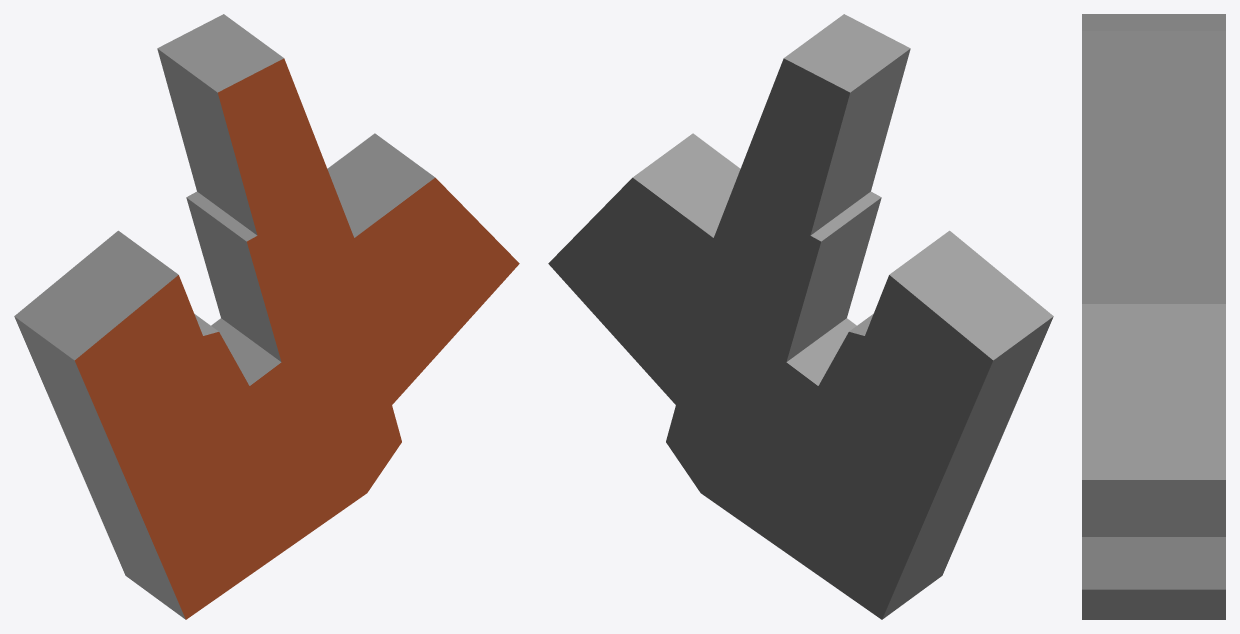
File: construction_1663_assumed_A_Casa_h6m.obj
The picture shows the model from 3 angles, left to right: view 1: azimuth 30°, elevation 25°; view 2: azimuth 150°, elevation 25°; view 3: azimuth 270°, elevation 25°; orthographic projection. The views are drawn at different scales.
Visible parts, largest first — view 1: construction_1663_assumed_A_Casa; view 2: construction_1663_assumed_A_Casa; view 3: construction_1663_assumed_A_Casa.
Boxes of the visible parts, x1,y1,x2,y2 form: construction_1663_assumed_A_Casa: (14, 14, 519, 619); construction_1663_assumed_A_Casa: (548, 14, 1053, 619); construction_1663_assumed_A_Casa: (1082, 14, 1225, 619).
Size of the model in its own units: 25.5 by 29.43 by 6.
